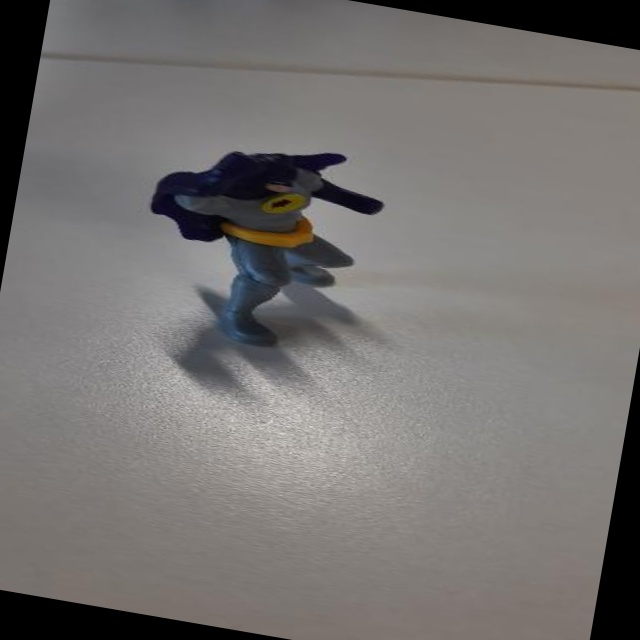Batman: (95, 108, 432, 404)
